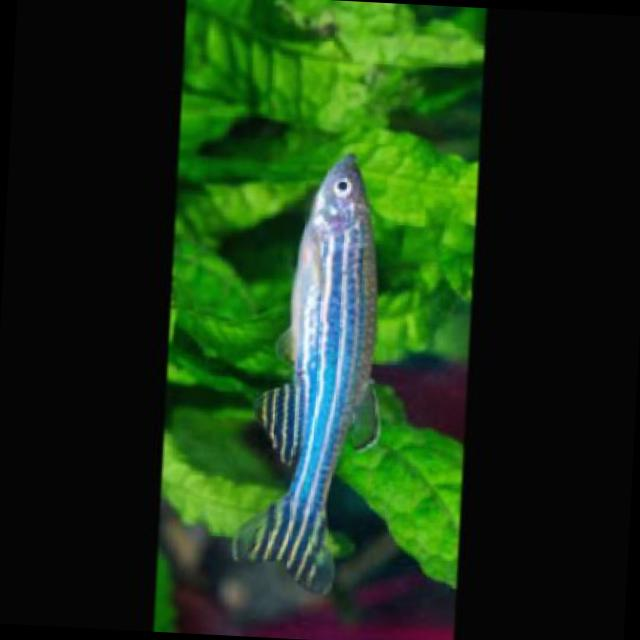ZebraFish: (228, 150, 400, 598)
